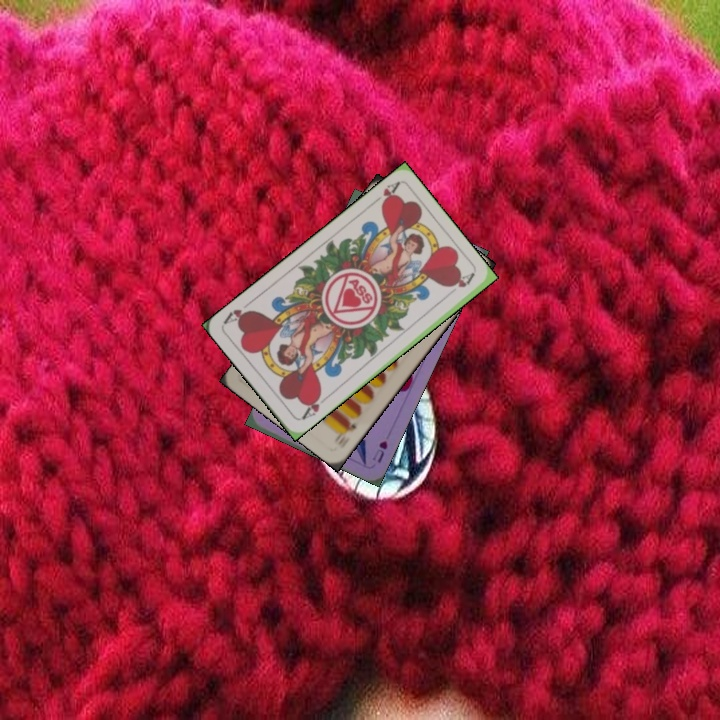E10: (334, 418, 359, 447)
HA: (366, 178, 402, 209), (297, 390, 324, 422)
HU: (368, 436, 390, 465)
